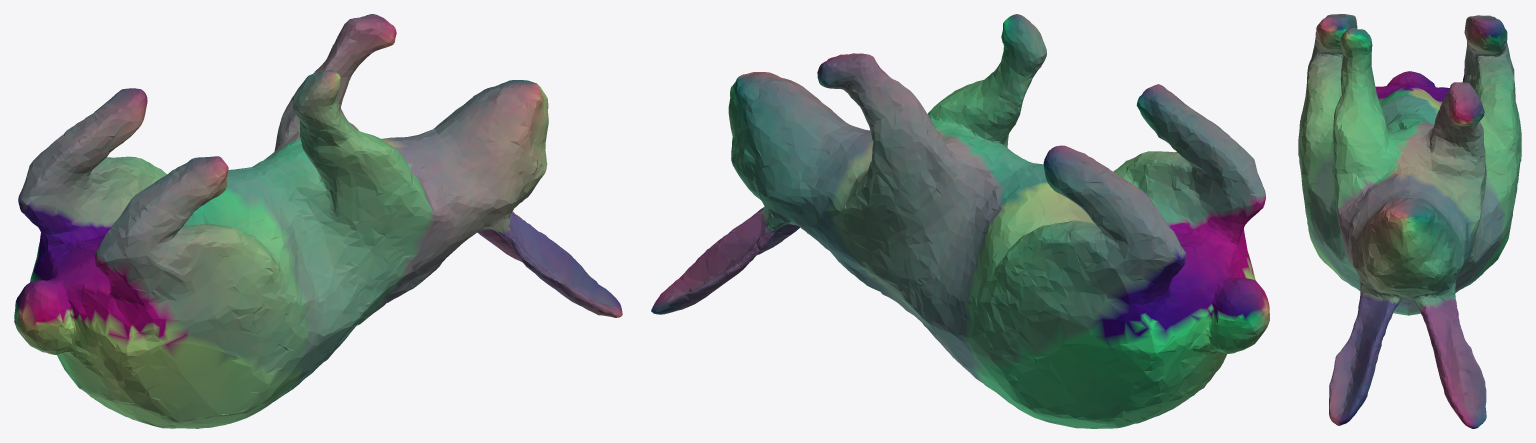
Rendered from rabbit-3.off.obj.
3 views of the same model, side by side, from view 1: azimuth 30°, elevation 25°; view 2: azimuth 150°, elevation 25°; view 3: azimuth 270°, elevation 25° (orthographic). The views are drawn at different scales.
Bounding box in the file's own units: 1.47 × 0.876 × 0.5685.
